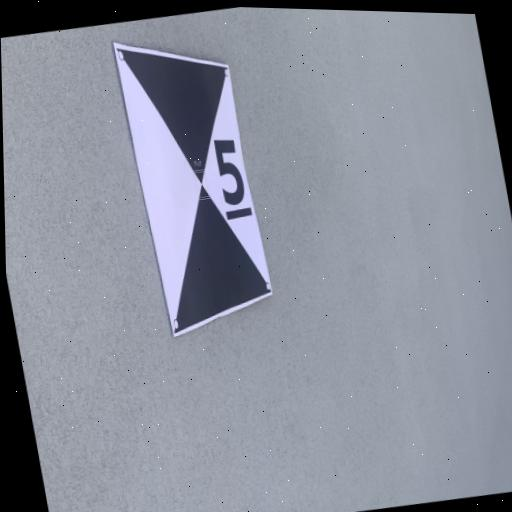target5: (112, 42, 274, 338)
